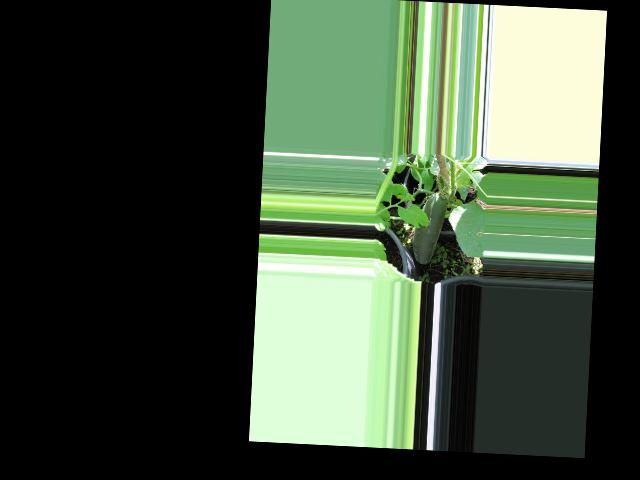cucumber: (412, 191, 448, 265)
